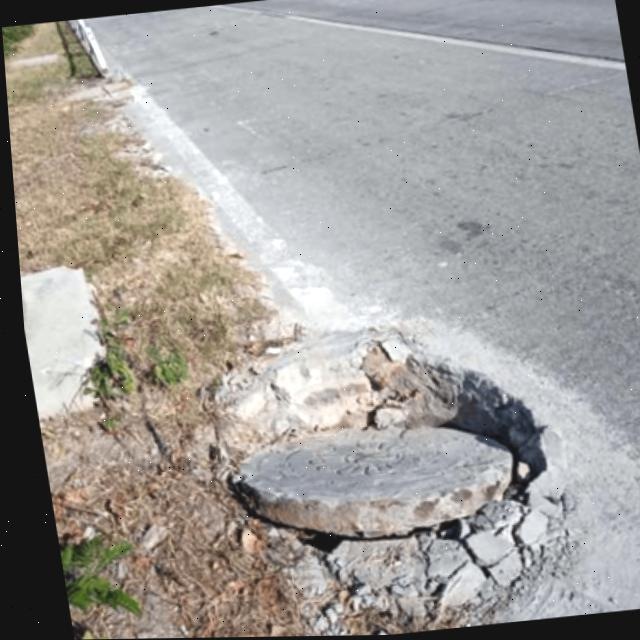manhole: (181, 318, 567, 587)
